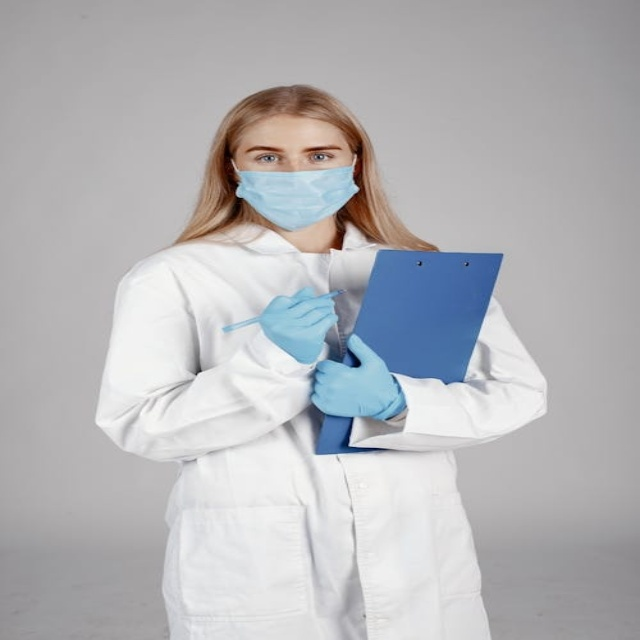Guantes: (312, 334, 405, 422), (256, 287, 339, 364)
Mascara: (233, 157, 361, 230)
Sin_gafas: (242, 139, 347, 170)
